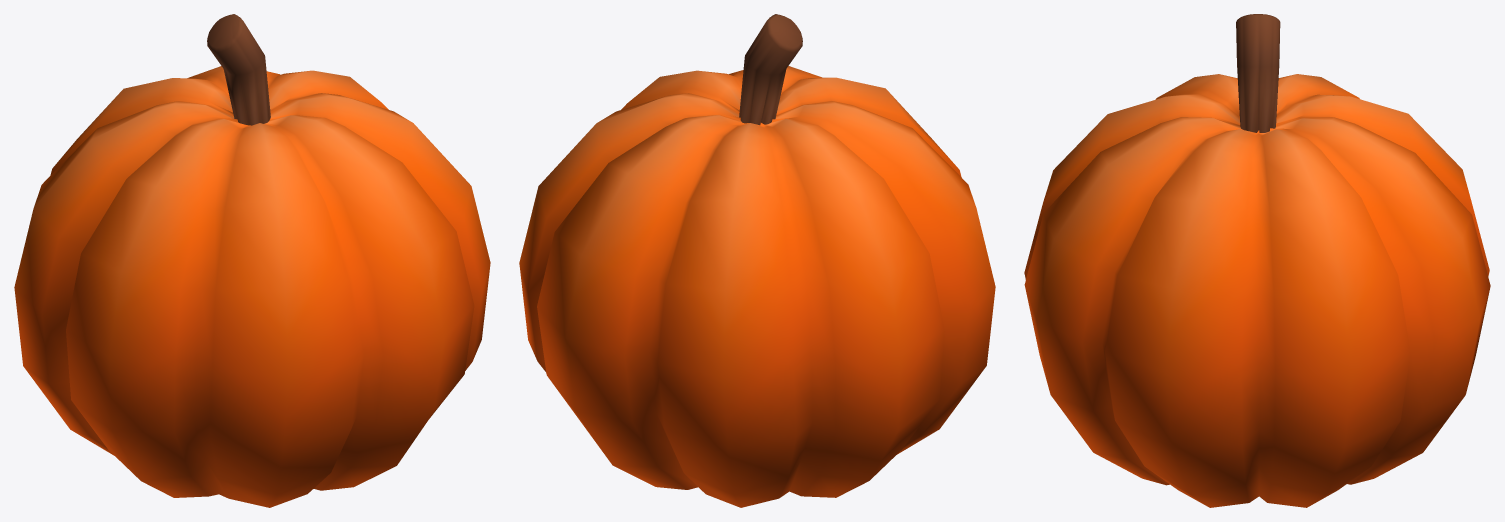
Rendered from Pumpkin.fbx.
The picture shows the model from 3 angles, left to right: view 1: azimuth 30°, elevation 25°; view 2: azimuth 150°, elevation 25°; view 3: azimuth 270°, elevation 25°; orthographic projection.
Visible parts, largest first — view 1: Sphere.004; view 2: Sphere.004; view 3: Sphere.004.
Boxes of the visible parts, x1,y1,x2,y2 form: Sphere.004: (14,14,490,507); Sphere.004: (519,14,995,507); Sphere.004: (1024,14,1490,507).
Bounding box in the file's own units: 159 × 170 × 163.
